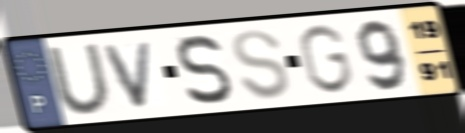9: (353, 17, 411, 93)
G: (295, 22, 357, 97)
S: (230, 27, 293, 102), (175, 32, 235, 107)
U: (43, 41, 116, 117)
V: (100, 38, 156, 111)
